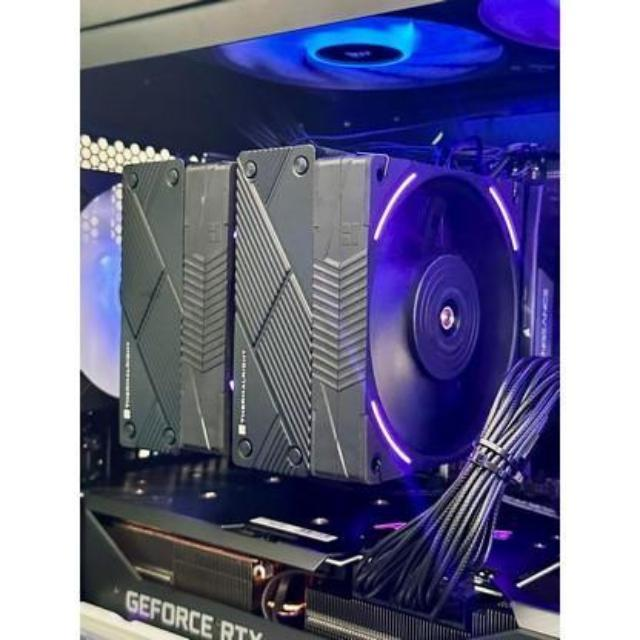CPU_Fan: (106, 144, 532, 528)
